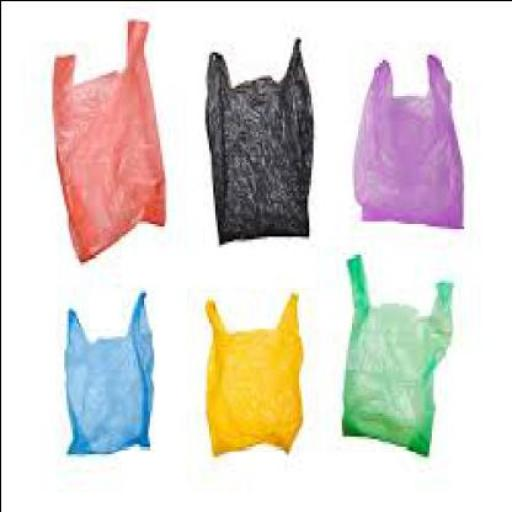plastic: (53, 15, 167, 259), (343, 250, 455, 456), (206, 36, 316, 243), (354, 51, 466, 228), (206, 292, 306, 453), (70, 287, 153, 450)
